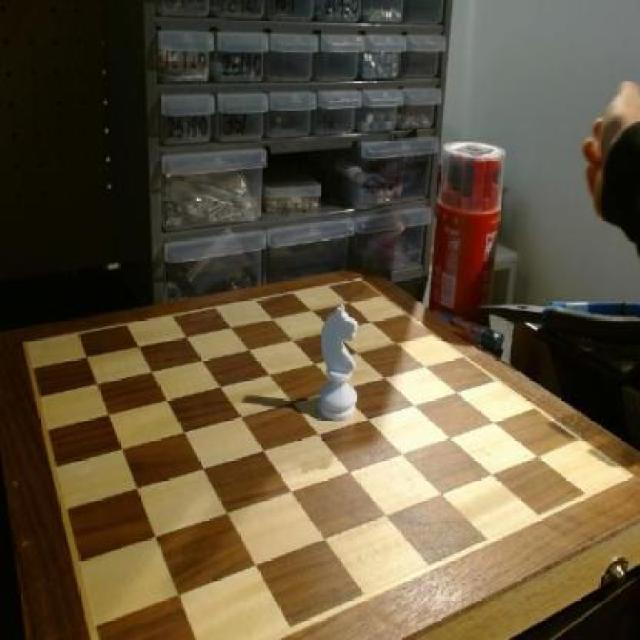white-king: (311, 301, 364, 427)
